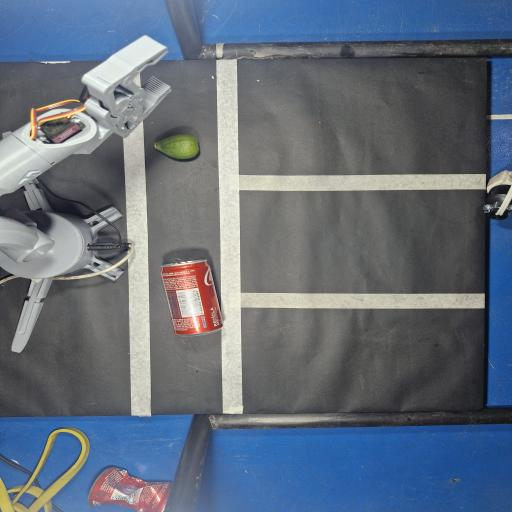higo: (155, 134, 198, 159)
lata: (161, 258, 223, 335)
